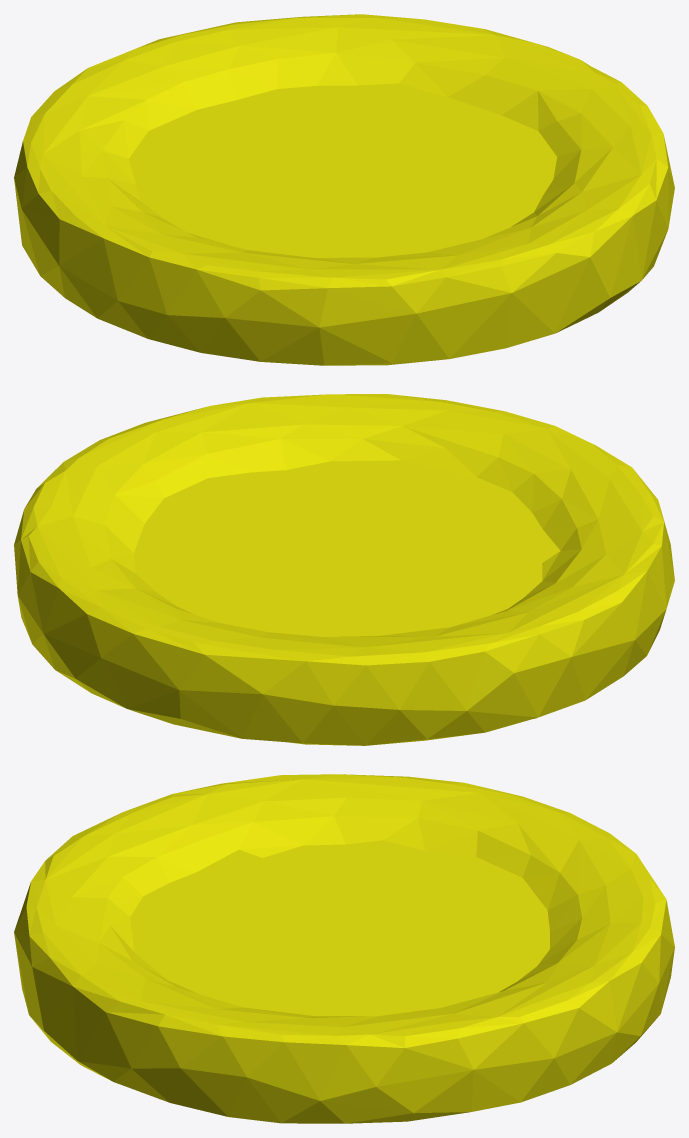
Rendered from coin.fbx.
3 renders of one model, top to bottom at view 1: azimuth 30°, elevation 25°; view 2: azimuth 150°, elevation 25°; view 3: azimuth 270°, elevation 25°, orthographic.
Visible parts, largest first — view 1: 円柱; view 2: 円柱; view 3: 円柱.
Part boxes in pixels (<box>): 円柱: <box>14,14,674,365</box>; 円柱: <box>14,394,674,745</box>; 円柱: <box>14,774,674,1123</box>.
Bounding box in the file's own units: 1.6 × 0.2318 × 1.6.
